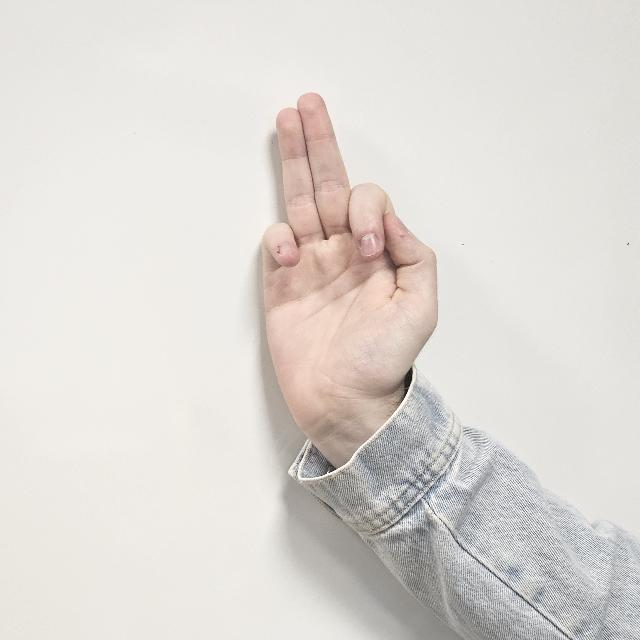R: (255, 91, 440, 423)
